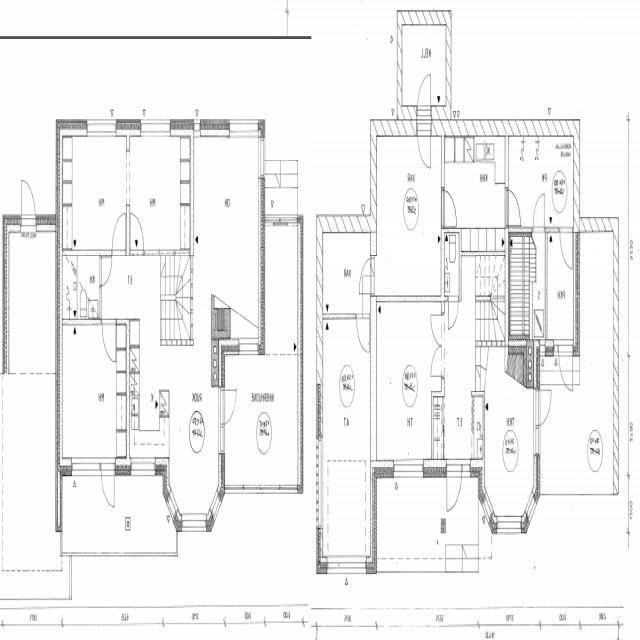door: (21, 173, 35, 230), (447, 460, 461, 516), (559, 338, 572, 393), (101, 458, 114, 512), (417, 119, 430, 172), (358, 259, 377, 294), (218, 389, 237, 424), (417, 70, 430, 119), (534, 390, 552, 424), (441, 190, 458, 226), (102, 319, 116, 362), (505, 189, 521, 224), (356, 313, 369, 354), (112, 216, 125, 256), (560, 225, 572, 267), (131, 216, 143, 256), (430, 345, 444, 376), (430, 314, 444, 345), (533, 194, 544, 233), (99, 257, 111, 285), (448, 296, 458, 328)
